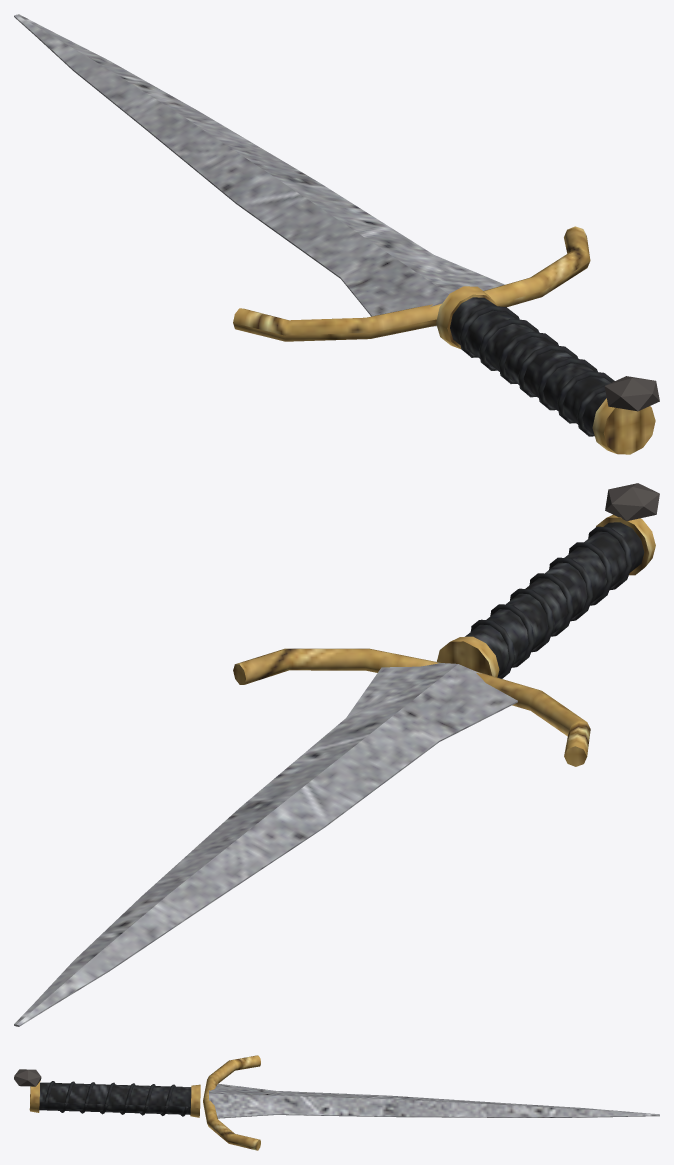
Rendered from item_dagger1.glb.
3 views of the same model, one above another, from view 1: azimuth 30°, elevation 25°; view 2: azimuth 150°, elevation 25°; view 3: azimuth 270°, elevation 25° (orthographic). The views are drawn at different scales.
Visible parts, largest first — view 1: w02_dagger1; view 2: w02_dagger1; view 3: w02_dagger1.
Boxes of the visible parts, box(x1,y1,x2,y2) form: w02_dagger1: box(14, 14, 659, 454); w02_dagger1: box(14, 483, 659, 1026); w02_dagger1: box(14, 1055, 659, 1150).
Bounding box in the file's own units: 0.3162 × 0.0771 × 0.9731.
Materials: 2 (1 with a texture image).
